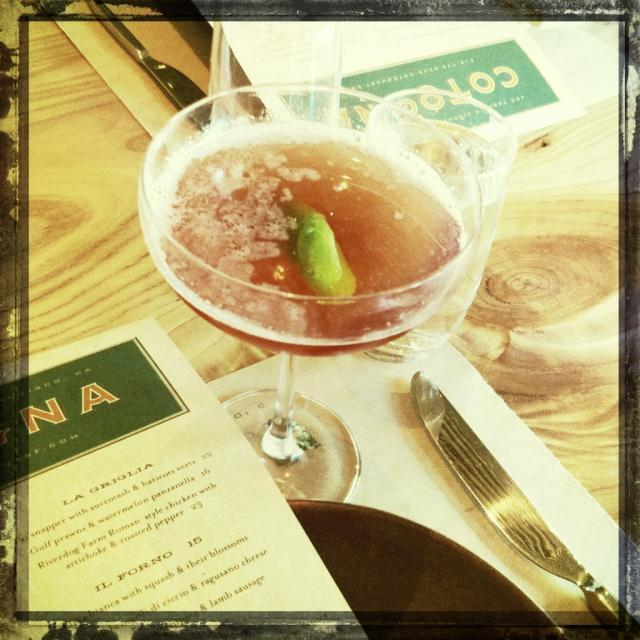Knife: (411, 371, 619, 619)
